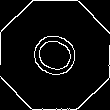O_SE: (23, 25, 87, 85)
